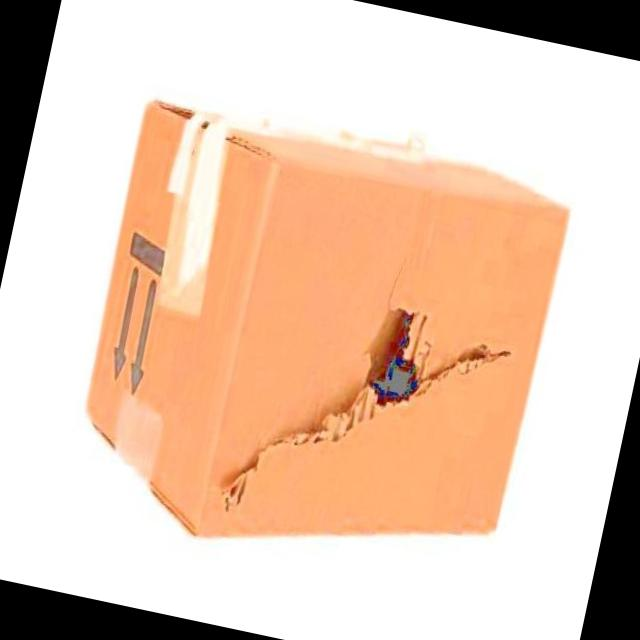box: (81, 98, 567, 538)
tear: (220, 287, 510, 516)
